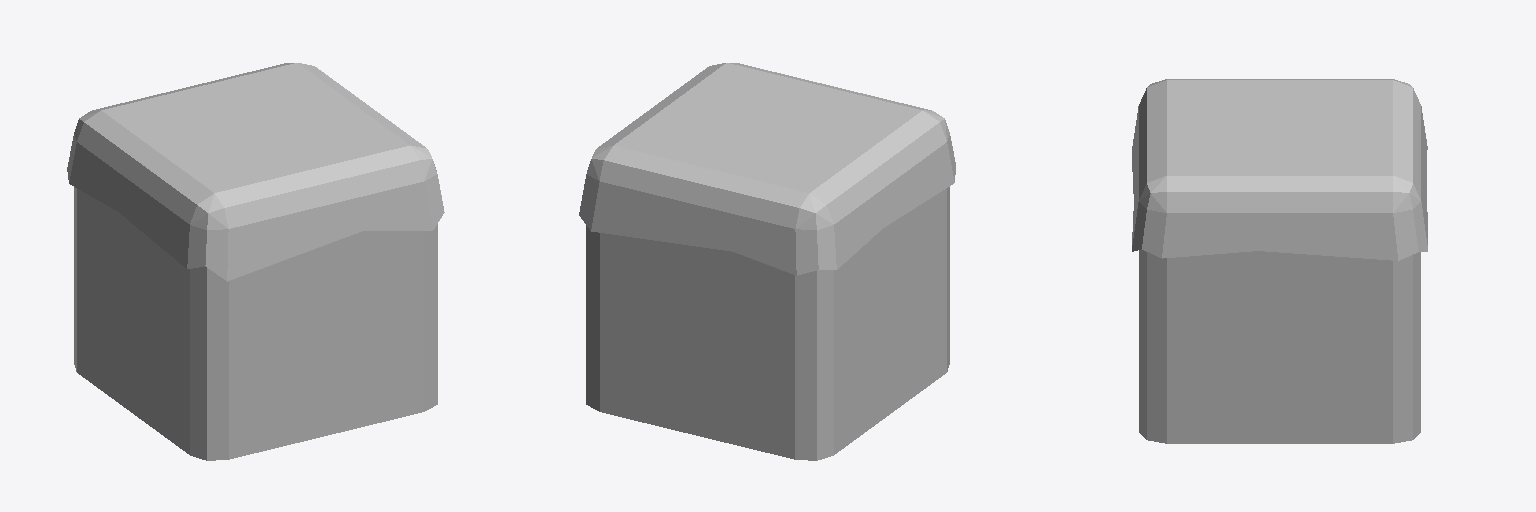
The model's file is Grass_Top.obj.
3 renders of one model, left to right at view 1: azimuth 30°, elevation 25°; view 2: azimuth 150°, elevation 25°; view 3: azimuth 270°, elevation 25°, orthographic.
Parts seen in each view (by area): view 1: Grass_Top; view 2: Grass_Top; view 3: Grass_Top.
Part boxes in pixels (left/top/right/bottom): Grass_Top: left=67, top=63, right=444, bottom=460; Grass_Top: left=579, top=63, right=955, bottom=460; Grass_Top: left=1132, top=79, right=1427, bottom=443.
Bounding box in the file's own units: 1.04 × 1 × 1.05.